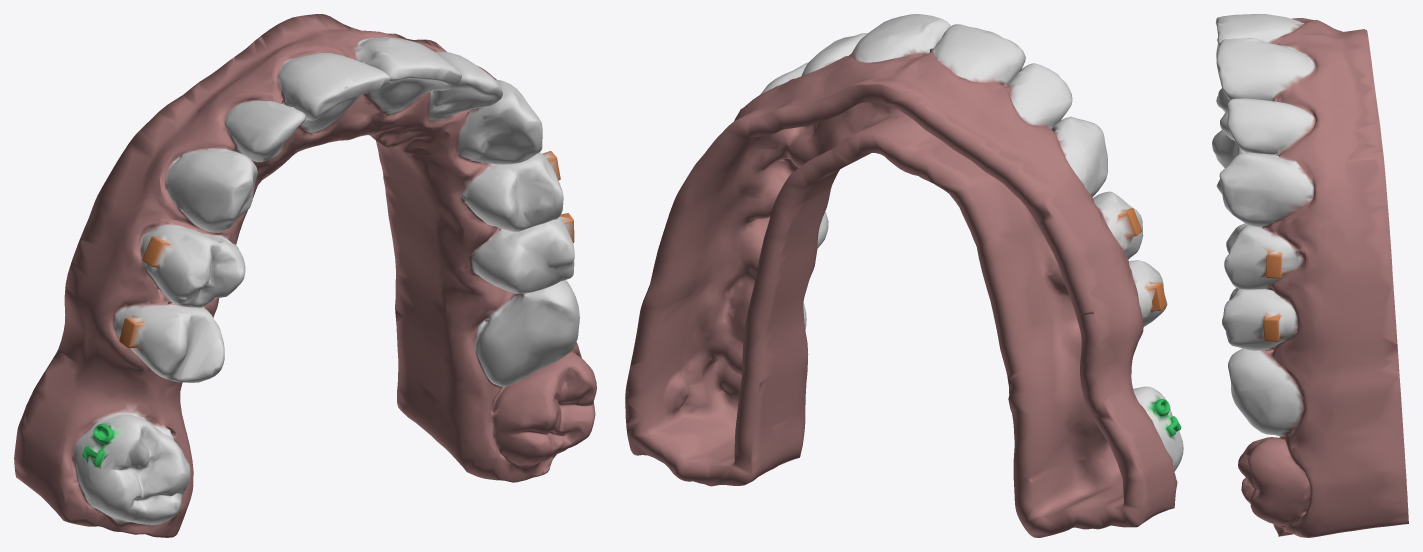
The model's file is upper-model-10.glb.
3 views of the same model, side by side, from view 1: azimuth 30°, elevation 25°; view 2: azimuth 150°, elevation 25°; view 3: azimuth 270°, elevation 25° (orthographic). The views are drawn at different scales.
Parts seen in each view (by area): view 1: 10; view 2: 10; view 3: 10.
Boxes of the visible parts, x1,y1,x2,y2 form: 10: [14, 14, 596, 537]; 10: [625, 14, 1183, 537]; 10: [1212, 14, 1408, 537].
Bounding box in the file's own units: 57.09 × 48.83 × 20.63.
